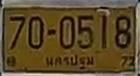0: (59, 15, 74, 48), (28, 15, 43, 48)
1: (101, 14, 106, 48)
5: (77, 14, 93, 48)
7: (9, 15, 25, 48)
8: (114, 14, 130, 48)
NPT: (44, 53, 95, 69)
